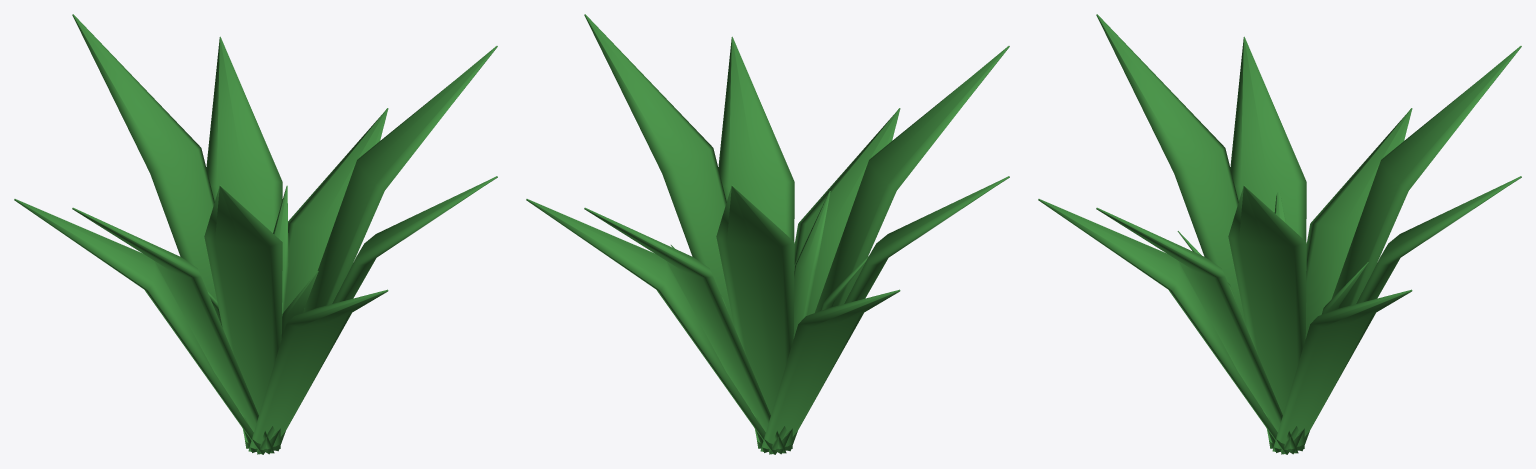
File: org_seagrass.glb
The picture shows the model from 3 angles, left to right: view 1: azimuth 30°, elevation 25°; view 2: azimuth 150°, elevation 25°; view 3: azimuth 270°, elevation 25°; orthographic projection.
Visible parts, largest first — view 1: Foliage; view 2: Foliage; view 3: Foliage.
Boxes of the visible parts, bbox=[...] form: Foliage: bbox=[14, 14, 497, 454]; Foliage: bbox=[526, 14, 1009, 454]; Foliage: bbox=[1038, 14, 1521, 454].
Size of the model in its own units: 0.4842 by 0.4 by 0.4768.
